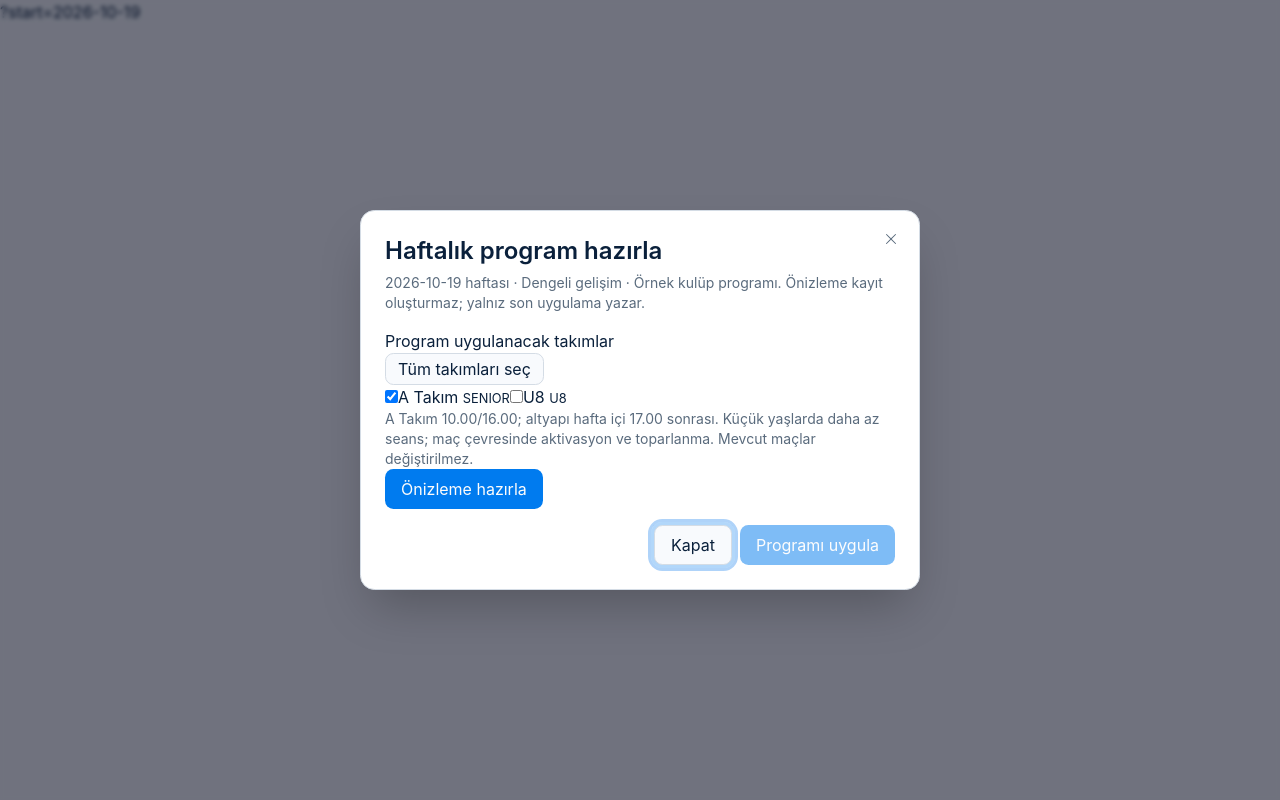
weekly planning dialogs › shows conflicts and blocks application
expect the checkbox labelled "A Takım SENIOR" is shown: met, box [385,390,398,403]
Click the button "Önizleme hazırla": (464, 489) [385,469,543,509]
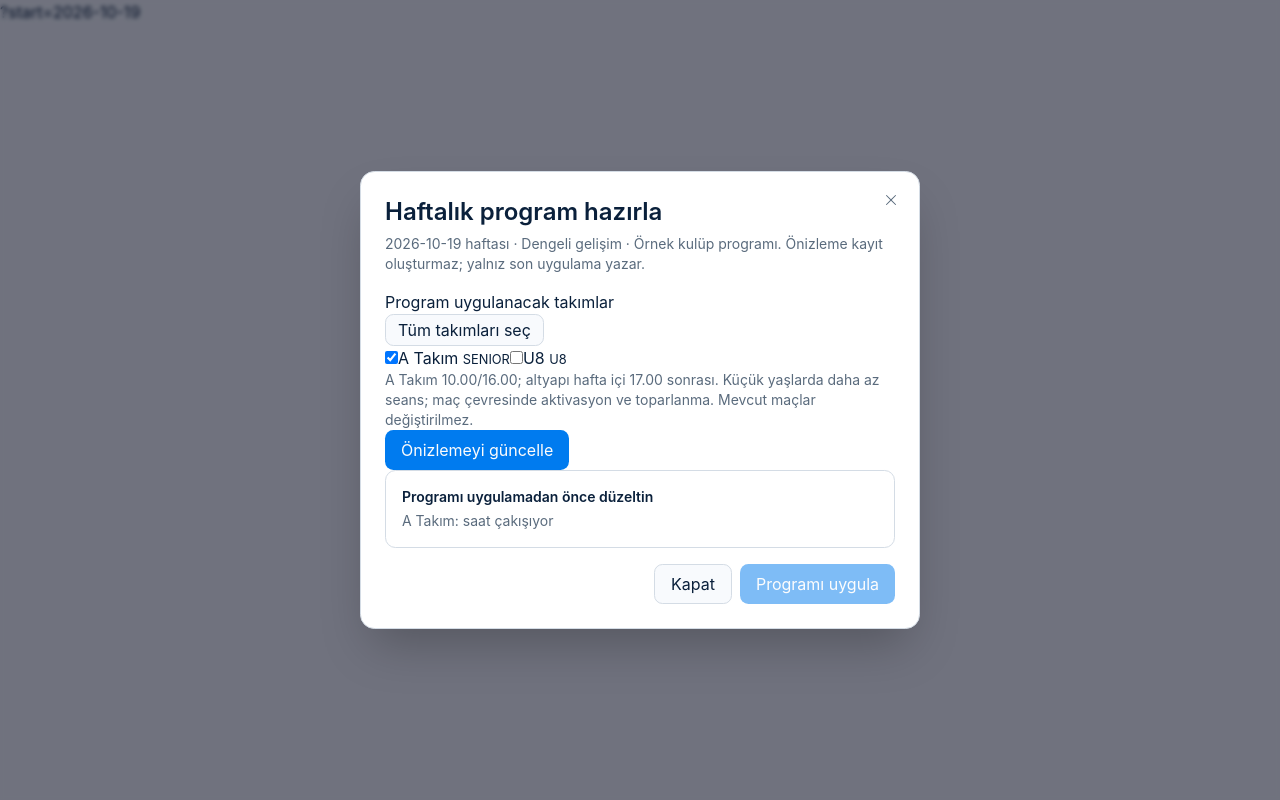
expect the button "Programı uygula" is disabled: met, box [740,564,895,604]
expect the list item "A Takım: saat çakışıyor" is shown: met, box [402,512,554,529]
